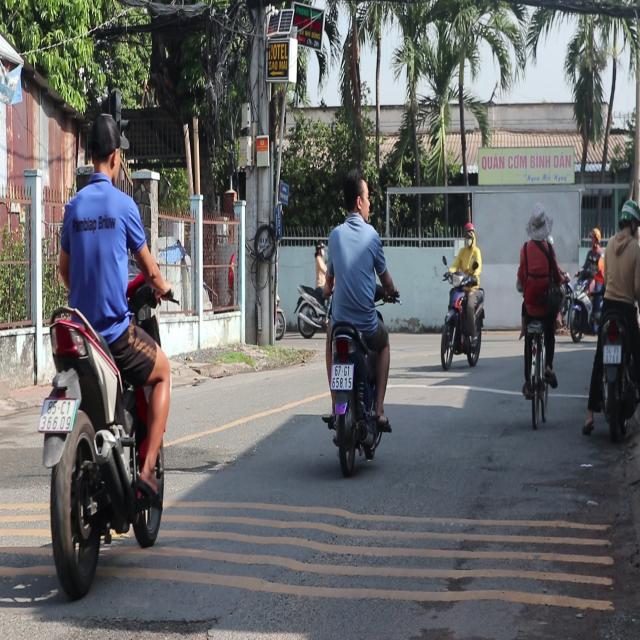helmet: (616, 199, 639, 237)
licenseplate: (35, 111, 176, 593), (317, 165, 396, 473), (587, 197, 640, 438)
motorcyclist: (84, 111, 124, 187), (342, 169, 371, 222)
nohelmet: (37, 398, 74, 428), (331, 362, 353, 388), (603, 343, 621, 362)
